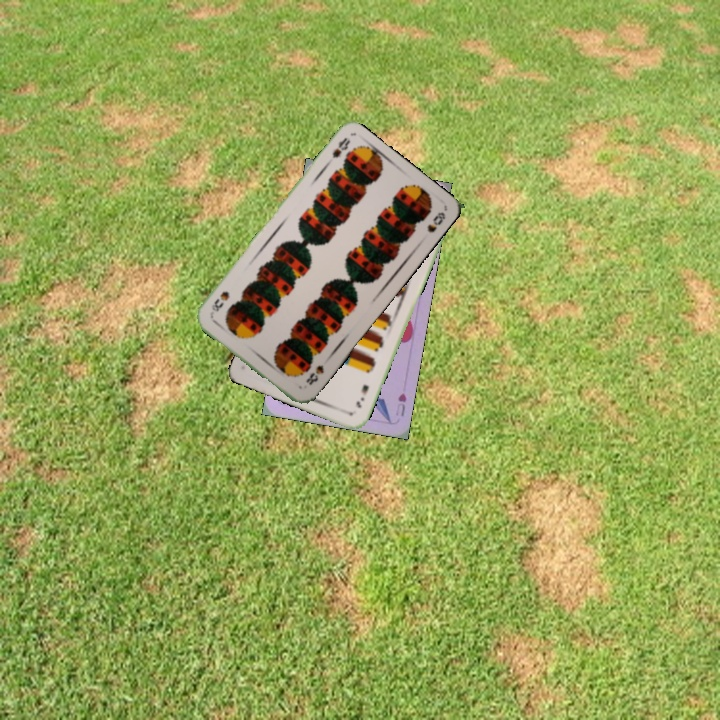E7: (352, 381, 372, 410)
HU: (391, 389, 409, 419)
S8: (322, 133, 353, 168), (301, 361, 327, 388)
